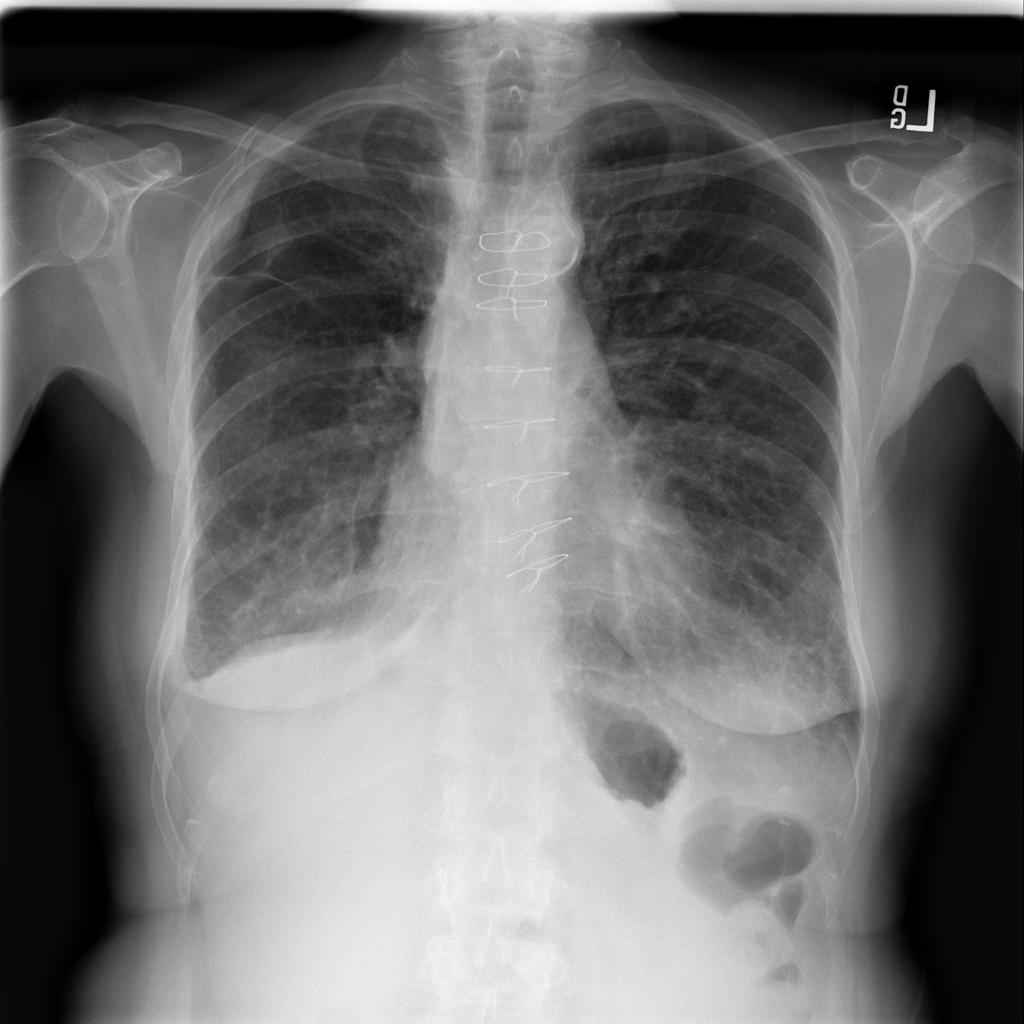nodule: (224, 326, 305, 402), (234, 204, 315, 275)
